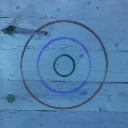Axe Tip: (1, 30, 16, 32)
